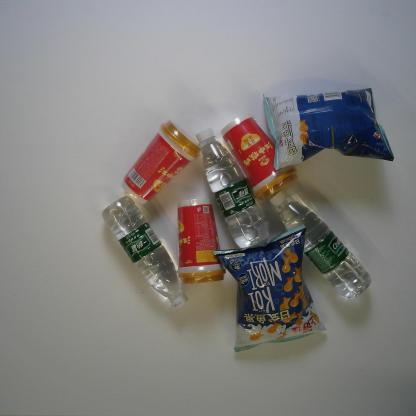Drink: (268, 188, 373, 301), (99, 194, 190, 310), (196, 124, 274, 252)
Instant Drink: (117, 118, 204, 207), (218, 113, 301, 203), (173, 195, 227, 286)
Puffed Food: (212, 225, 327, 357), (259, 84, 397, 174)
